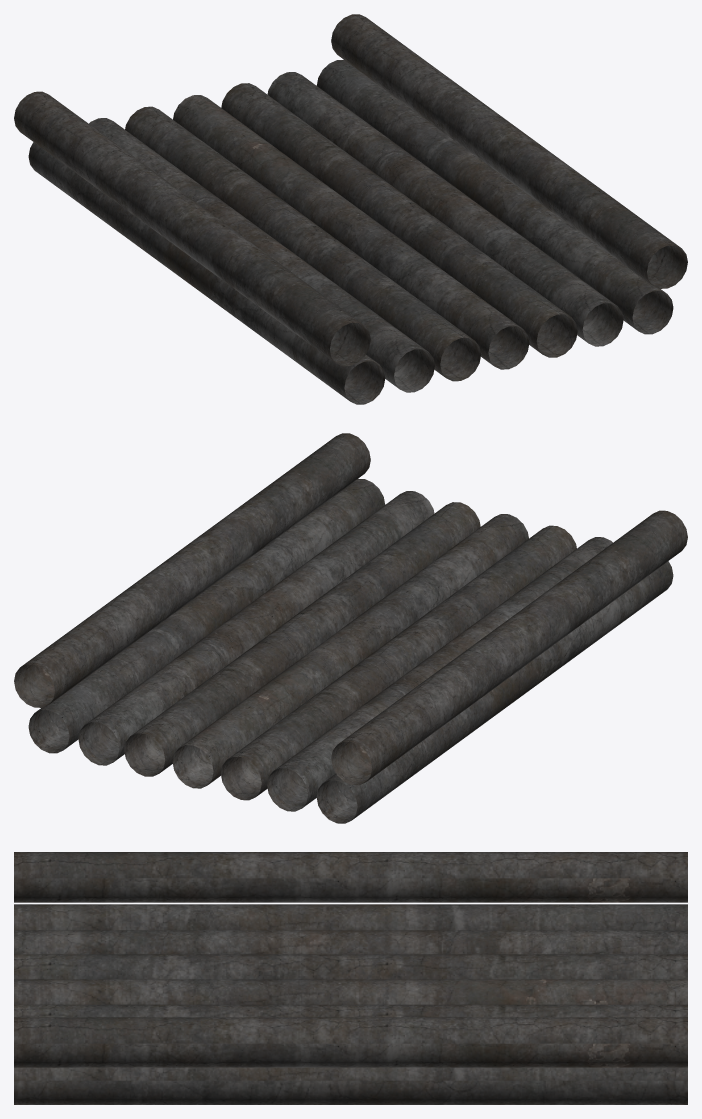
Rendered from Pipes_Straight_2m.glb.
3 views of the same model, one above another, from view 1: azimuth 30°, elevation 25°; view 2: azimuth 150°, elevation 25°; view 3: azimuth 270°, elevation 25° (orthographic). The views are drawn at different scales.
Parts seen in each view (by area): view 1: Pipes_Straight_2m; view 2: Pipes_Straight_2m; view 3: Pipes_Straight_2m.
Boxes of the visible parts, x1,y1,x2,y2 form: Pipes_Straight_2m: (14, 14, 687, 404); Pipes_Straight_2m: (14, 433, 687, 823); Pipes_Straight_2m: (14, 852, 687, 1104).
Size of the model in its own units: 1.31 by 0.2967 by 2.
1 material, 1 textured.
